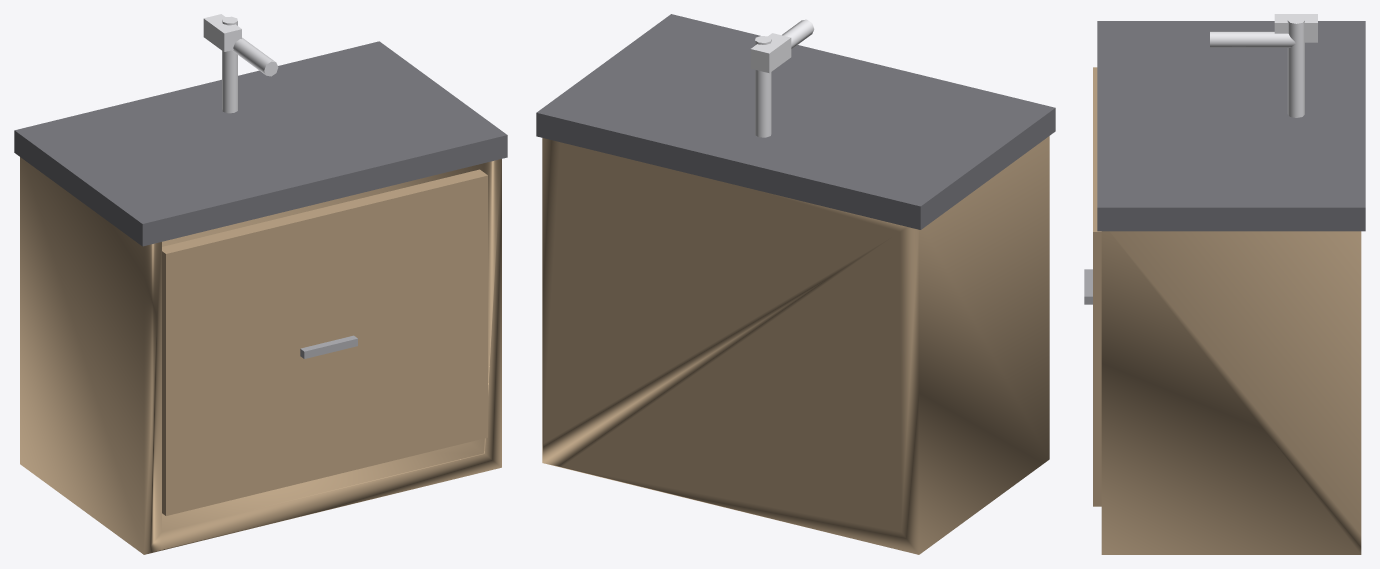
The model's file is kitchen_sink_unit.glb.
The picture shows the model from 3 angles, left to right: view 1: azimuth 30°, elevation 25°; view 2: azimuth 150°, elevation 25°; view 3: azimuth 270°, elevation 25°; orthographic projection. The views are drawn at different scales.
Visible parts, largest first — view 1: cabinet_door, merged_cabinet_wood, counter_top, faucet_pipe, faucet_handle, faucet_spout, door_handle; view 2: merged_cabinet_wood, counter_top, faucet_pipe, faucet_handle; view 3: merged_cabinet_wood, counter_top, cabinet_door, faucet_pipe, faucet_spout, faucet_handle.
Part boxes in pixels (left/top/right/bottom): cabinet_door: left=162, top=169, right=487, bottom=515; merged_cabinet_wood: left=20, top=157, right=501, bottom=554; counter_top: left=14, top=41, right=507, bottom=246; faucet_pipe: left=222, top=16, right=237, bottom=113; faucet_handle: left=203, top=14, right=241, bottom=51; faucet_spout: left=232, top=37, right=278, bottom=76; door_handle: left=300, top=335, right=357, bottom=358; merged_cabinet_wood: left=542, top=136, right=1049, bottom=554; counter_top: left=536, top=14, right=1055, bottom=229; faucet_pipe: left=755, top=36, right=771, bottom=137; faucet_handle: left=750, top=33, right=791, bottom=73; merged_cabinet_wood: left=1101, top=231, right=1361, bottom=554; counter_top: left=1097, top=21, right=1365, bottom=231; cabinet_door: left=1093, top=67, right=1101, bottom=506; faucet_pipe: left=1287, top=16, right=1304, bottom=117; faucet_spout: left=1210, top=31, right=1295, bottom=47; faucet_handle: left=1274, top=14, right=1317, bottom=42.
Size of the model in its own units: 1.02 by 1.13 by 0.65.
